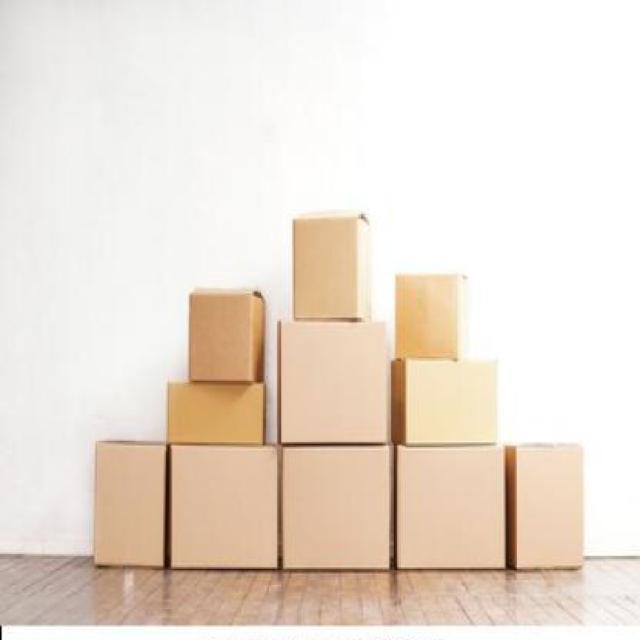box: (167, 446, 282, 582), (272, 316, 393, 437), (394, 453, 509, 573), (282, 452, 391, 569), (400, 356, 512, 448), (91, 437, 166, 566), (512, 447, 586, 575), (184, 269, 264, 382), (287, 217, 368, 324), (394, 277, 472, 366), (160, 379, 265, 438)
